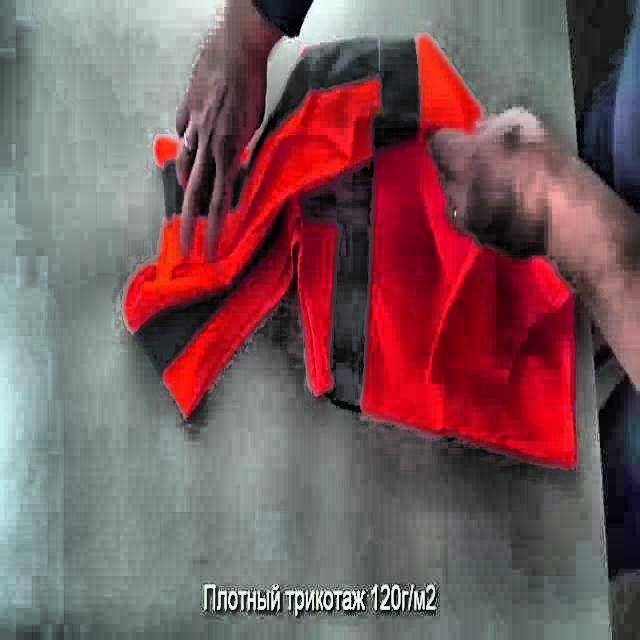safety_jacket: (120, 32, 584, 475)
